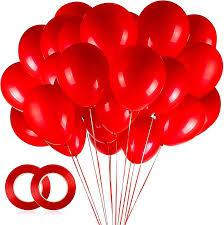red: (112, 43, 165, 114), (59, 47, 107, 105), (114, 49, 162, 107), (24, 84, 75, 138), (139, 4, 187, 59), (46, 105, 88, 157), (83, 6, 130, 52), (2, 65, 45, 111), (159, 97, 203, 141), (94, 96, 128, 149), (184, 37, 215, 90), (10, 109, 47, 148), (126, 118, 157, 160), (47, 10, 83, 46), (187, 13, 217, 46), (23, 27, 47, 63), (201, 89, 222, 122)
